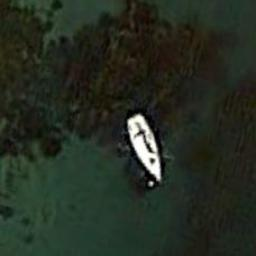boat: (124, 112, 162, 184)
